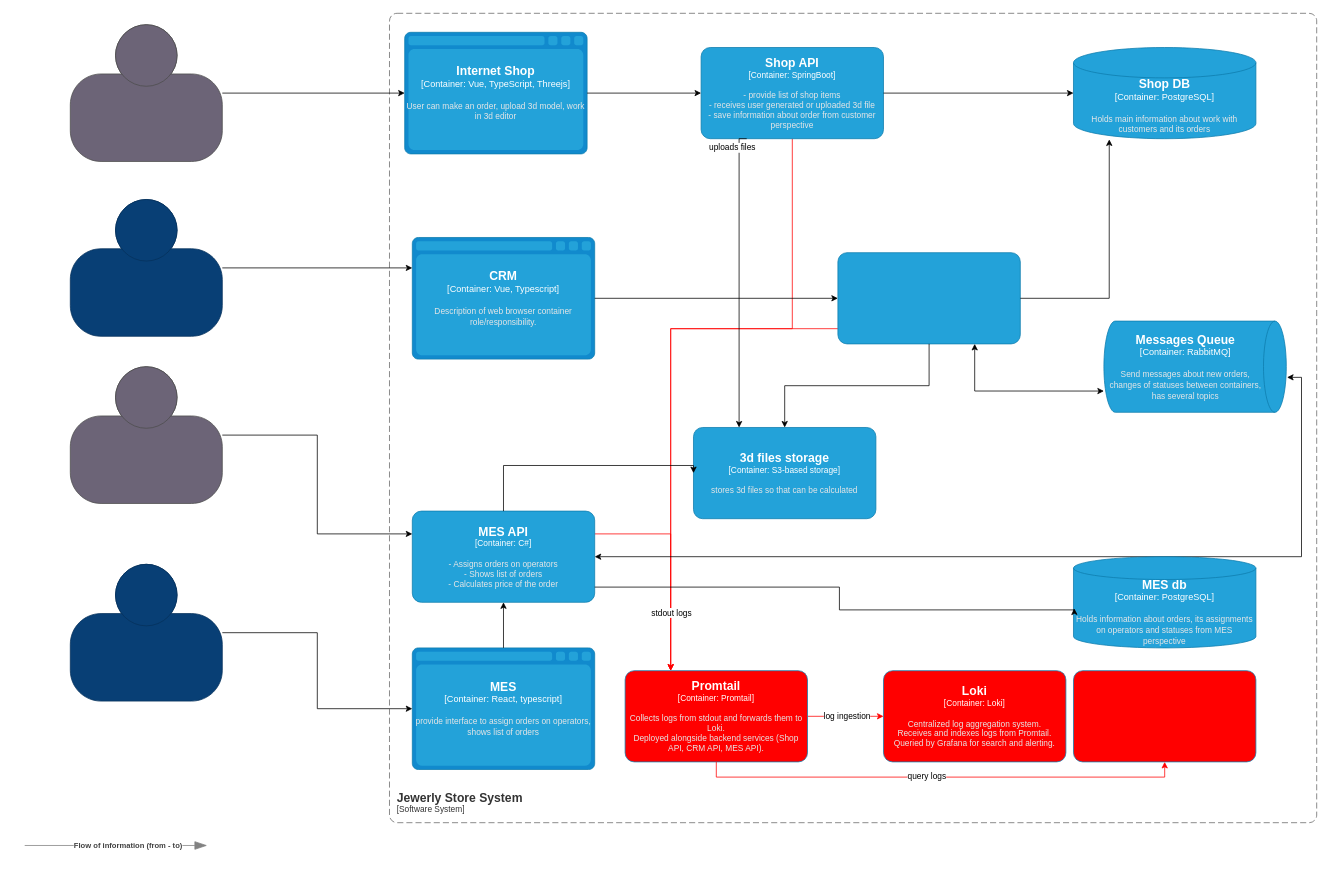
Image size: 1330x871. Some labels were removed from this diagram. Each missing label, with the box of its shape:
API user [Person] Description of external person.: (70, 366, 222, 504)
CRM API [Container: SpringBoot] Description of container role/responsibility.: (837, 252, 1020, 344)
Customer [Person] Description of external person.: (70, 24, 222, 162)
Grafana [Container: Grafana] UI + Alerts: (1073, 670, 1256, 762)
Operator [Person] Takes order in work, manufactures jewerly: (70, 564, 222, 701)
Seller [Person] Operates with order, confirms manufacturing for the user: (70, 199, 222, 336)
